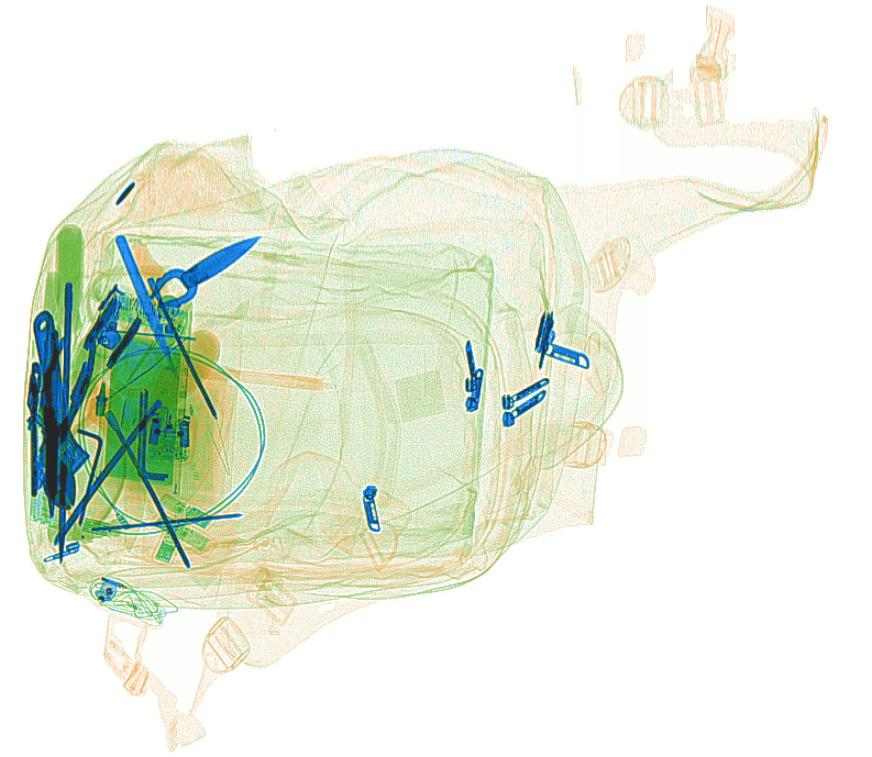USBFlashDisk: (148, 510, 218, 558), (150, 499, 198, 569), (150, 485, 216, 532)
scissors: (85, 235, 262, 366)
